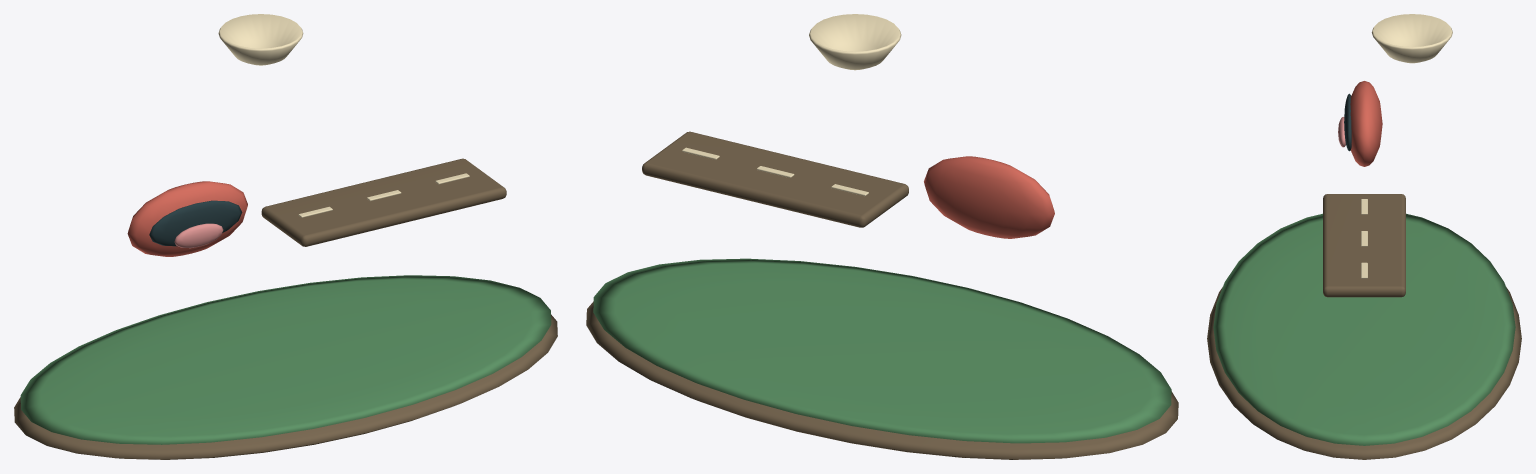
The model's file is complete-third-taste-path.glb.
3 views of the same model, side by side, from view 1: azimuth 30°, elevation 25°; view 2: azimuth 150°, elevation 25°; view 3: azimuth 270°, elevation 25° (orthographic). The views are drawn at different scales.
Visible parts, largest first — view 1: complete-third-taste-path_surface_01, complete-third-taste-path_surface_00, complete-third-taste-path_surface_05, complete-third-taste-path_surface_02, complete-third-taste-path_surface_03, complete-third-taste-path_surface_04; view 2: complete-third-taste-path_surface_01, complete-third-taste-path_surface_00, complete-third-taste-path_surface_02, complete-third-taste-path_surface_05; view 3: complete-third-taste-path_surface_01, complete-third-taste-path_surface_00, complete-third-taste-path_surface_05, complete-third-taste-path_surface_02, complete-third-taste-path_surface_03.
Boxes of the visible parts, bbox=[...] form: complete-third-taste-path_surface_01: bbox=[20, 275, 551, 444]; complete-third-taste-path_surface_00: bbox=[14, 158, 557, 459]; complete-third-taste-path_surface_05: bbox=[218, 14, 469, 217]; complete-third-taste-path_surface_02: bbox=[127, 181, 247, 256]; complete-third-taste-path_surface_03: bbox=[149, 200, 242, 246]; complete-third-taste-path_surface_04: bbox=[174, 223, 223, 248]; complete-third-taste-path_surface_01: bbox=[593, 258, 1171, 443]; complete-third-taste-path_surface_00: bbox=[586, 131, 1178, 459]; complete-third-taste-path_surface_02: bbox=[924, 156, 1054, 238]; complete-third-taste-path_surface_05: bbox=[682, 14, 901, 196]; complete-third-taste-path_surface_01: bbox=[1213, 213, 1515, 445]; complete-third-taste-path_surface_00: bbox=[1207, 194, 1521, 459]; complete-third-taste-path_surface_05: bbox=[1361, 14, 1452, 278]; complete-third-taste-path_surface_02: bbox=[1350, 81, 1382, 166]; complete-third-taste-path_surface_03: bbox=[1344, 93, 1351, 151].
Bounding box in the file's own units: 4.56 × 2.83 × 2.5.
